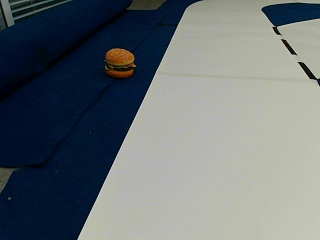burger: (104, 46, 135, 76)
